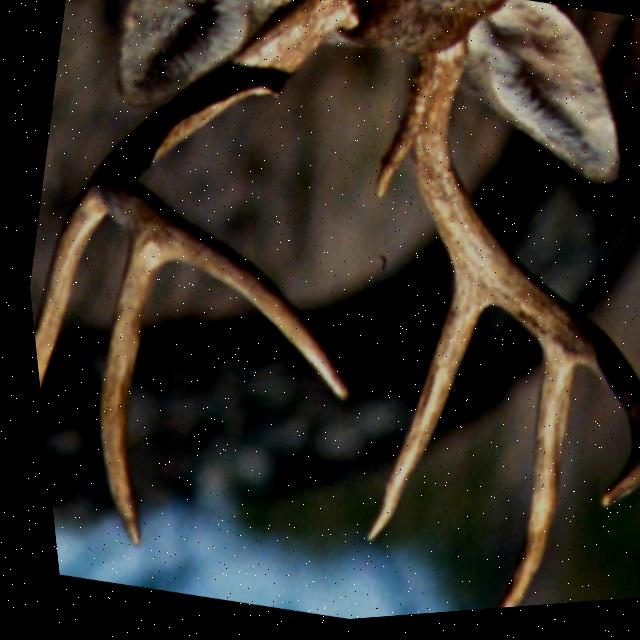L-F: (93, 0, 356, 406)
L-G1: (27, 174, 101, 386)
L-G2: (89, 240, 157, 551)
R-F: (403, 46, 640, 518)
R-G1: (352, 278, 481, 546), (370, 120, 410, 205)
R-G3: (483, 356, 567, 615)
